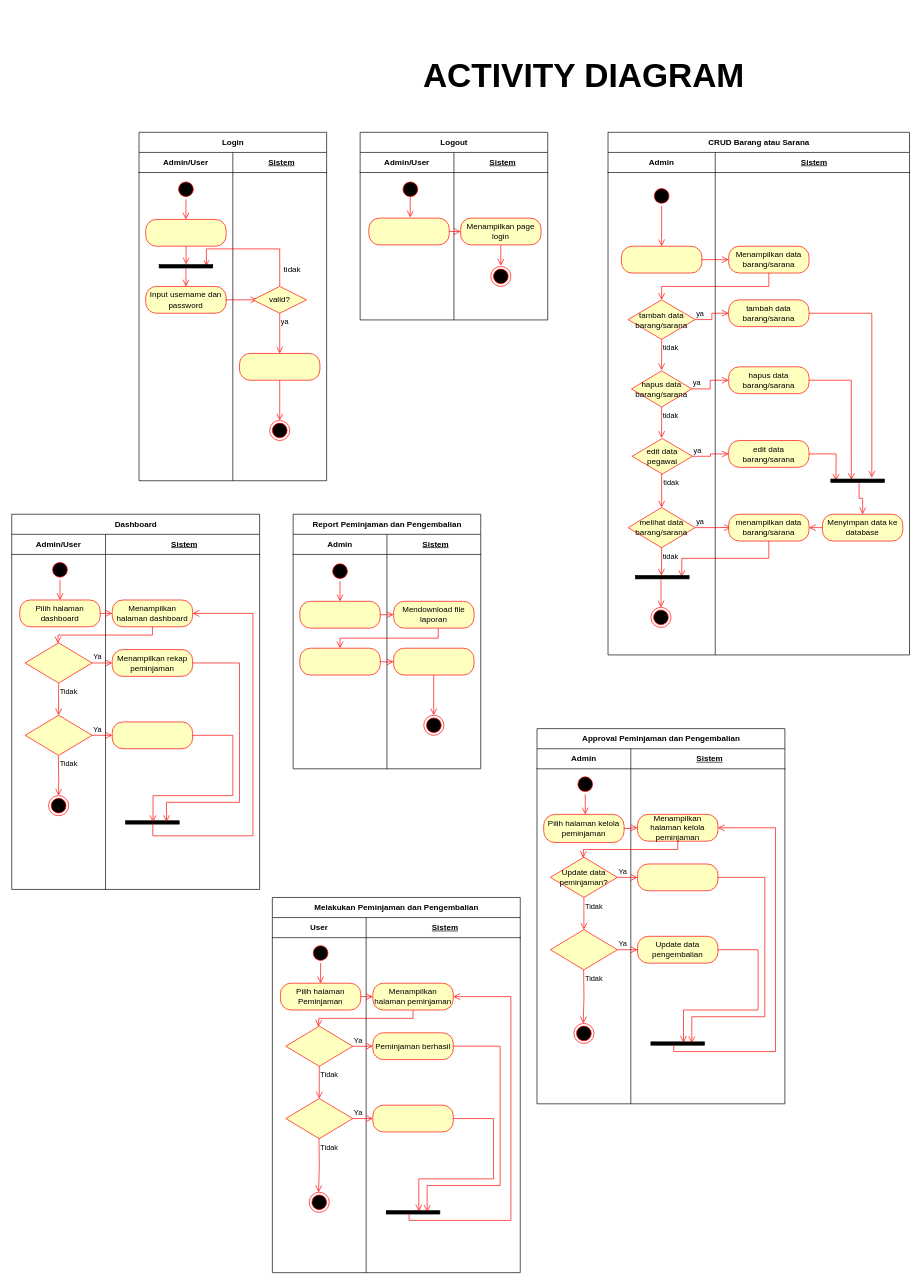
This 921x1284 diagram has some shape labels left out. The centre of each missing label's shape, as x and y in pixels:
Buat peminjaman?: point (319, 1045)
Buat pengembalian?: point (319, 1118)
Halaman Login: point (185, 232)
Login berhasil: point (279, 366)
Melihat Laporan: point (339, 661)
melihat rekap peminjaman: point (58, 662)
melihat rekap pengembalian: point (58, 735)
Menampilkan laporan: point (433, 661)
Menampilkan rekap pengembalian: point (152, 735)
Pengembalian berhasil: point (412, 1118)
pilih menu kelola barang atau sarana: point (661, 259)
Pilih menu logout: point (408, 231)
Pilih menu report: point (339, 614)
Update data peminjaman: point (677, 877)
Update data pengembalian?: point (583, 949)
